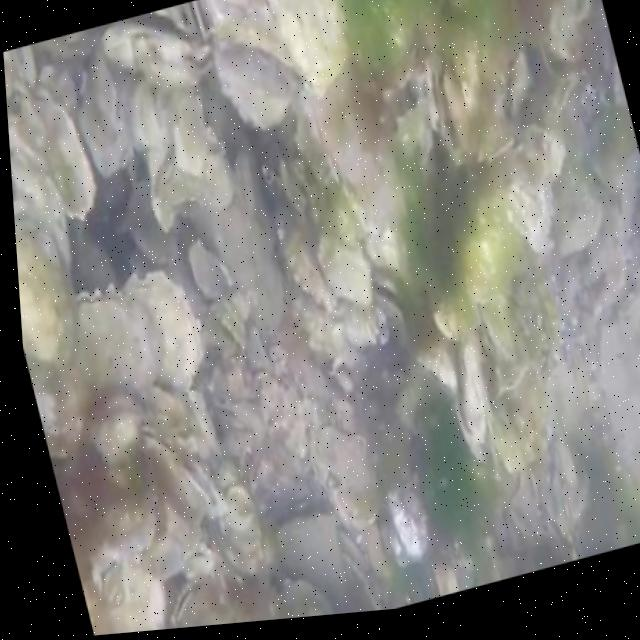Oyster-Closed: (484, 126, 567, 252), (125, 270, 204, 389), (74, 287, 159, 397), (214, 25, 300, 121), (308, 426, 379, 526), (104, 23, 211, 86), (455, 336, 487, 460), (535, 68, 580, 151), (91, 394, 142, 464), (411, 336, 457, 397), (477, 293, 515, 364), (173, 582, 224, 628)
Oyster-Indeterminate: (443, 161, 520, 302), (14, 217, 76, 367), (268, 0, 349, 96), (273, 209, 332, 303), (318, 237, 373, 302), (201, 0, 279, 32)
Oyster-Open: (143, 428, 214, 515), (379, 69, 429, 169), (431, 58, 472, 159), (371, 269, 407, 319)
